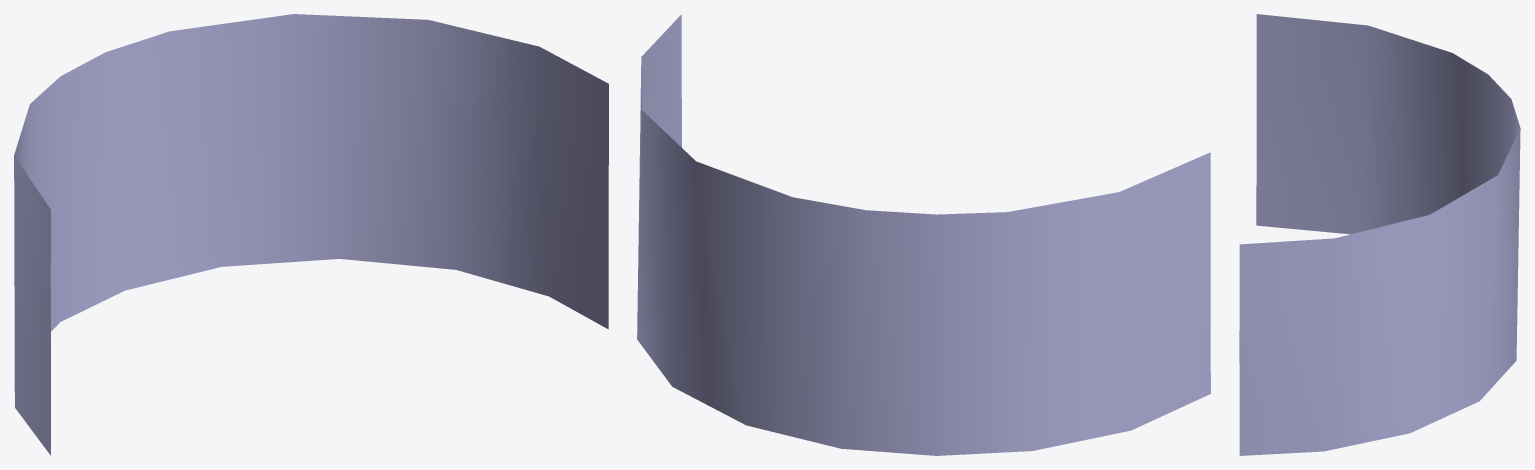
Rendered from original_43.obj.
3 views of the same model, side by side, from view 1: azimuth 30°, elevation 25°; view 2: azimuth 150°, elevation 25°; view 3: azimuth 270°, elevation 25° (orthographic). The views are drawn at different scales.
Parts seen in each view (by area): view 1: Group35/mesh40/mesh40-geometry#mesh40-geometry; view 2: Group35/mesh40/mesh40-geometry#mesh40-geometry; view 3: Group35/mesh40/mesh40-geometry#mesh40-geometry.
Boxes of the visible parts, bbox=[...] form: Group35/mesh40/mesh40-geometry#mesh40-geometry: bbox=[14, 14, 608, 455]; Group35/mesh40/mesh40-geometry#mesh40-geometry: bbox=[637, 14, 1210, 455]; Group35/mesh40/mesh40-geometry#mesh40-geometry: bbox=[1239, 14, 1520, 455].
Bounding box in the file's own units: 0.3165 × 0.1359 × 0.1633.
